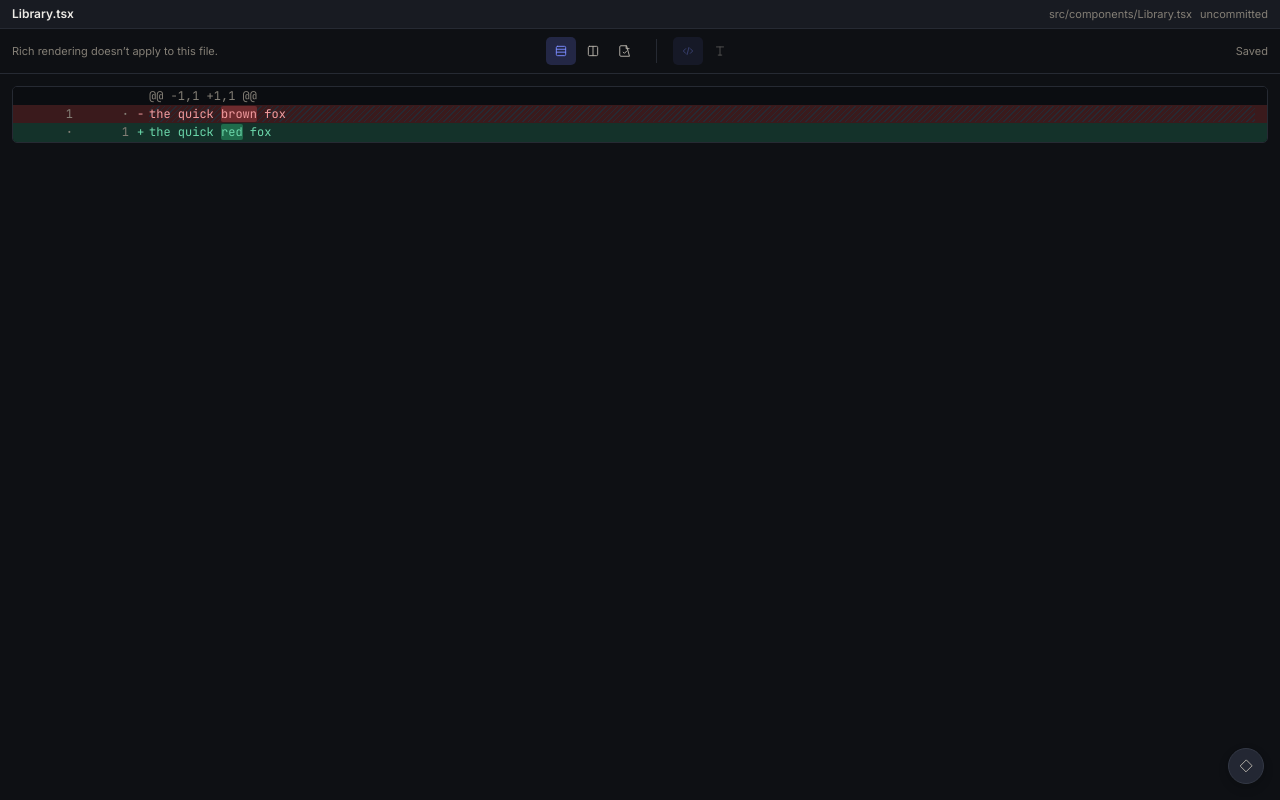
Test: Word-level marking inside a replacement › marks the words that changed on both sides in Side-by-side
Expected: the element with class "diff-line__text" is shown, top-left (13, 123), bottom-right (1267, 142)
Click the radio button named "Side-by-side" at x=592, y=51, box top-left (578, 37), bottom-right (608, 65)
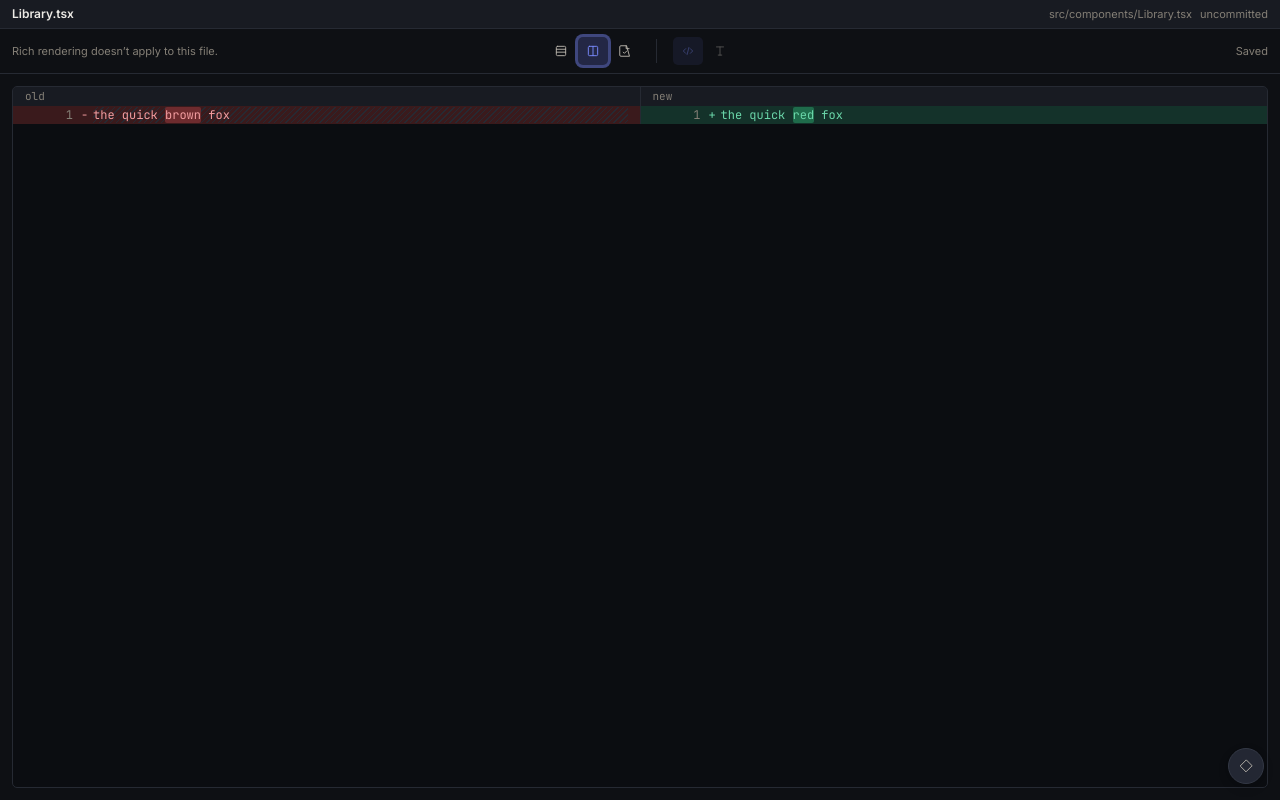
Now the element with test id "diff-side-by-side" is shown
